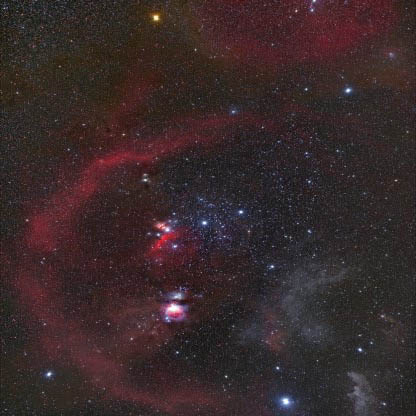Orion: (156, 214, 182, 249), (269, 384, 296, 416), (34, 360, 59, 386), (142, 5, 165, 33), (333, 77, 357, 101), (235, 203, 254, 225), (199, 210, 212, 234)
